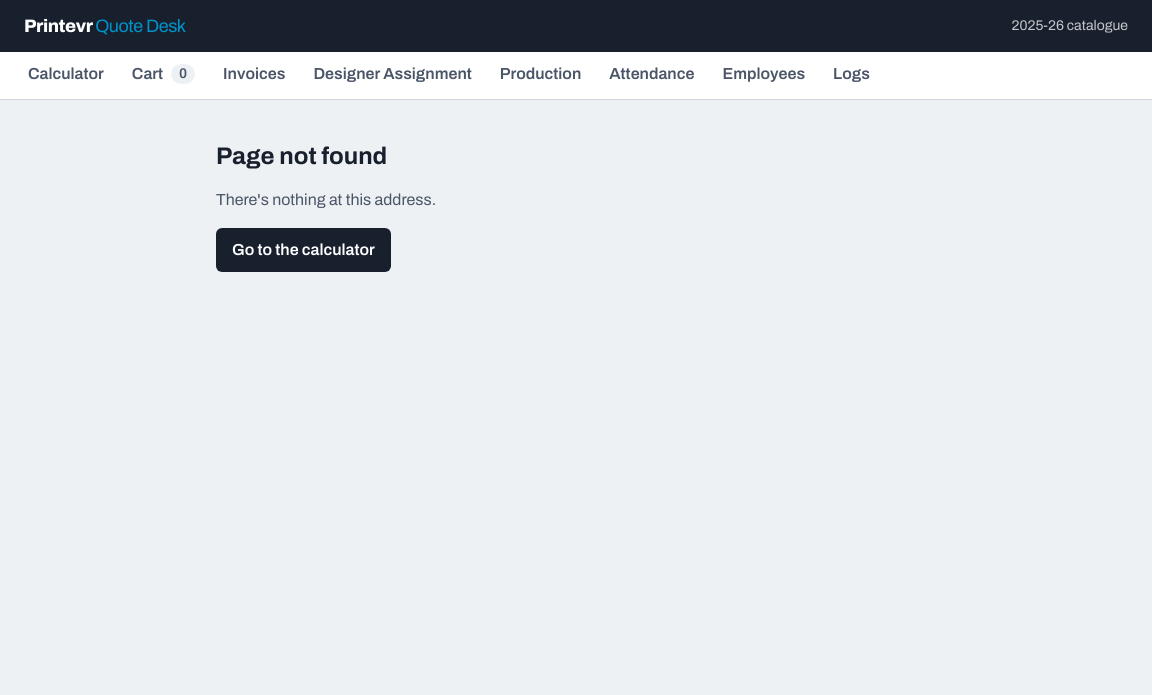
Scenario: navigation › N7: an unknown path shows Page not found with a link to the calculator
Expected: the heading "Page not found" is shown, [216,140,387,172]
Step 1. Click the link "Go to the calculator" → click(303, 250), box [216,228,391,272]
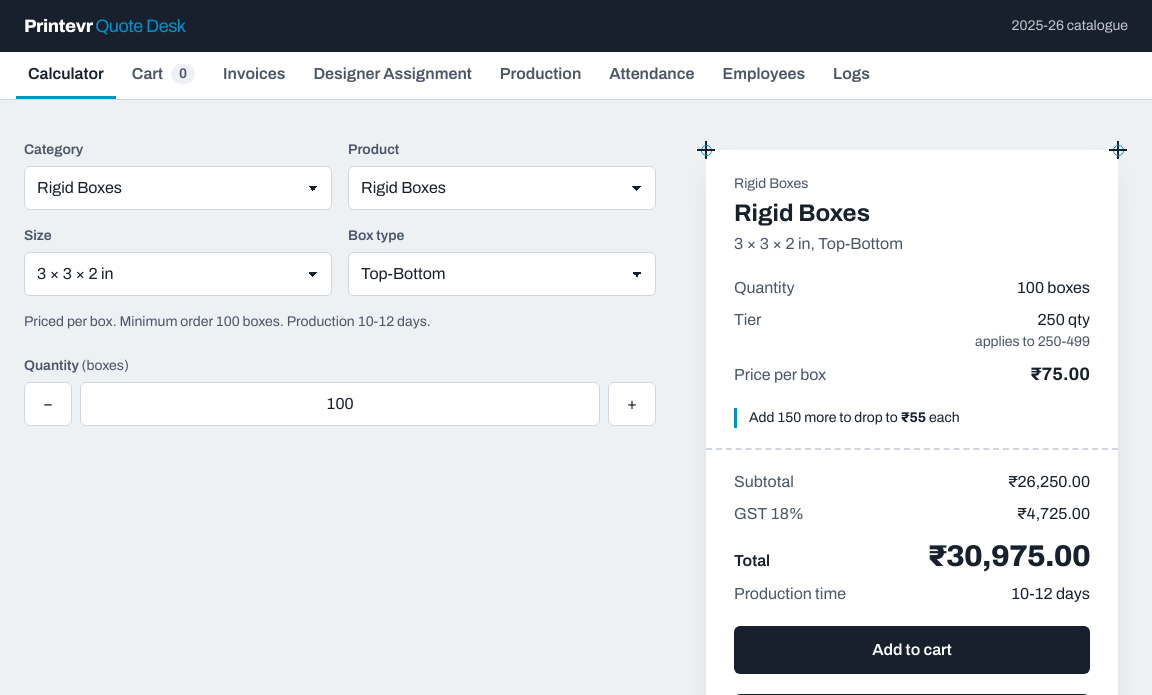
Expected: the field labelled "Quantity (boxes)" is shown, [80,382,600,426]
